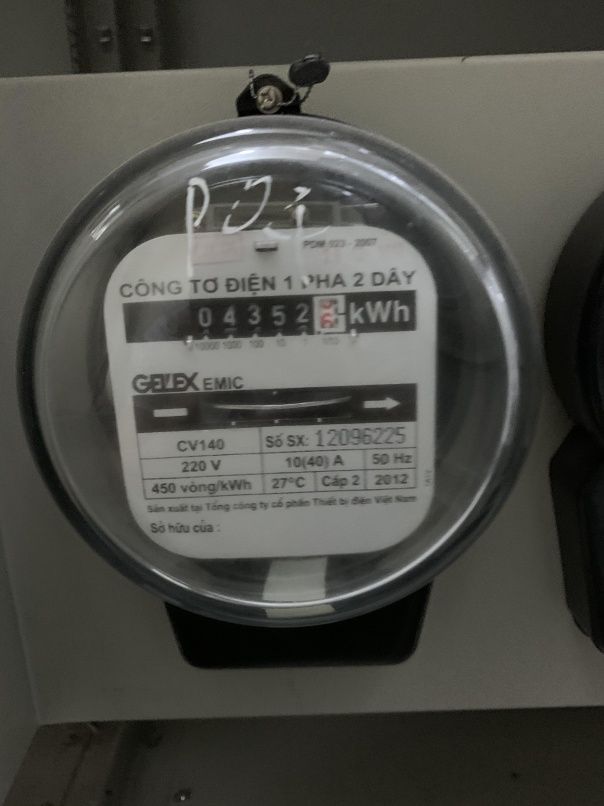counter: (118, 288, 419, 341)
electricity_meter: (25, 118, 533, 626)
